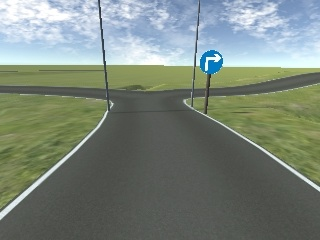turn_right_sign: (197, 48, 223, 75)
